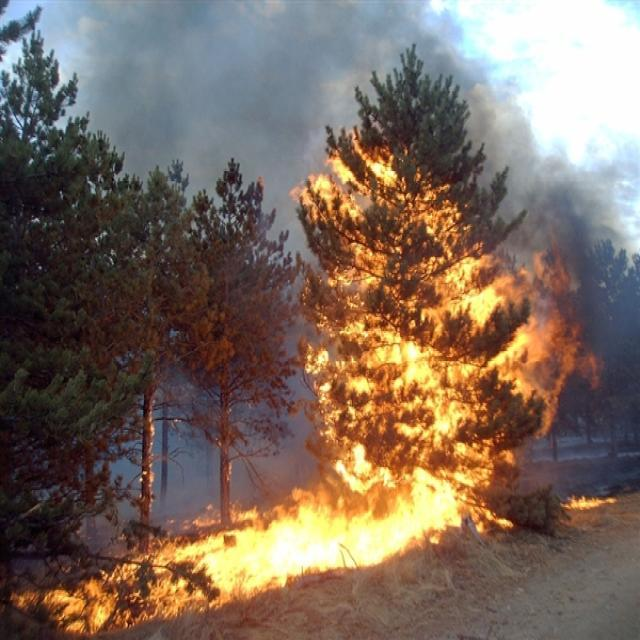Fire: (6, 569, 123, 637), (185, 534, 240, 588), (328, 460, 372, 504), (467, 506, 516, 532), (562, 493, 617, 510), (284, 572, 294, 582), (260, 580, 269, 590), (453, 514, 460, 526), (372, 560, 382, 568), (432, 538, 440, 547), (245, 590, 254, 598), (521, 336, 526, 346), (420, 376, 428, 382), (534, 347, 538, 353)
Smoke: (84, 7, 176, 174), (584, 148, 633, 283)
